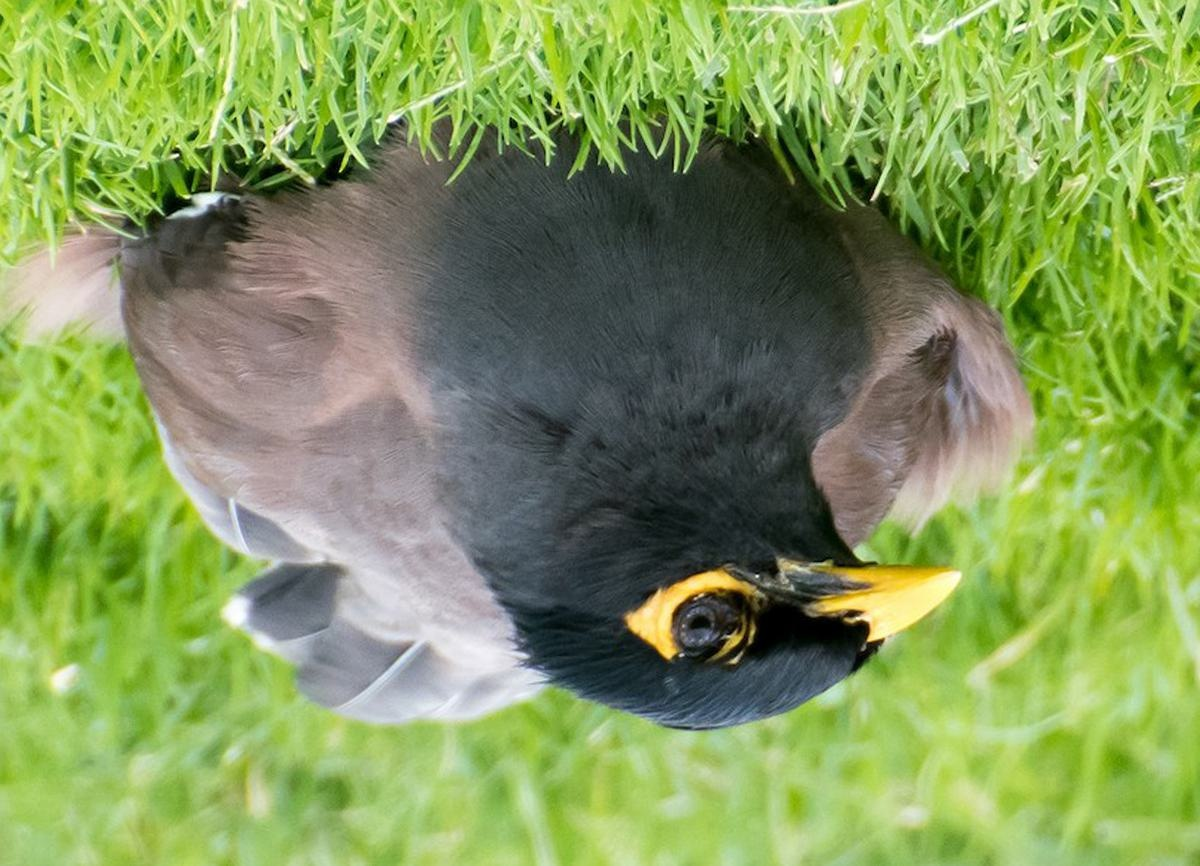myna: (100, 170, 1007, 760)
